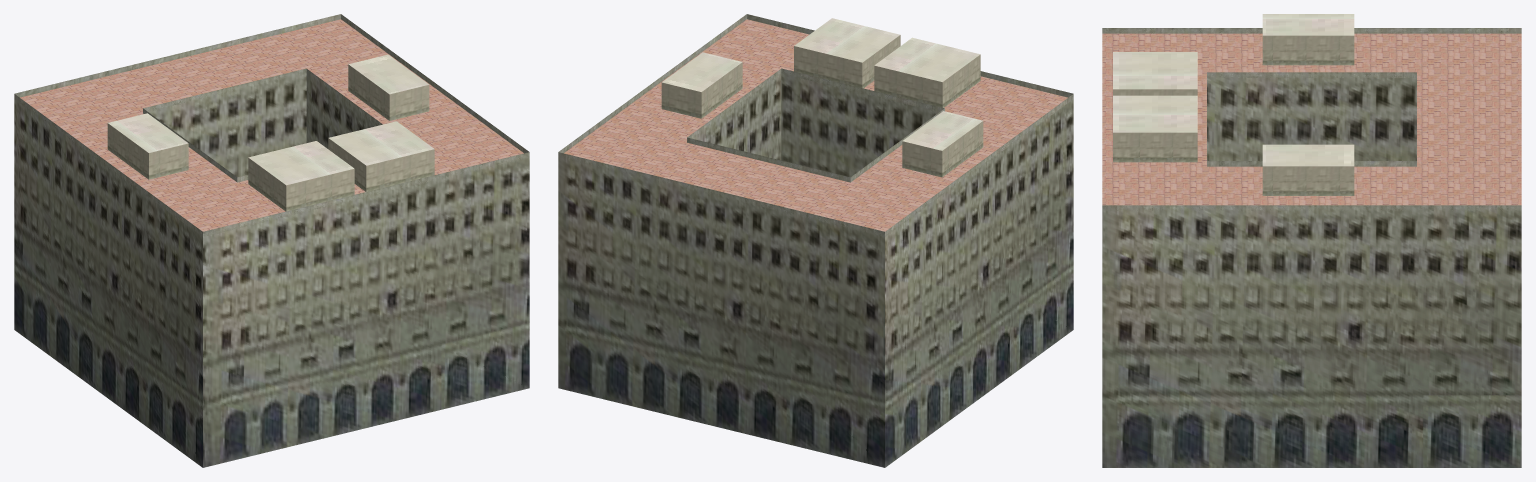
3 renders of one model, left to right at view 1: azimuth 30°, elevation 25°; view 2: azimuth 150°, elevation 25°; view 3: azimuth 270°, elevation 25°, orthographic. The views are drawn at different scales.
Parts seen in each view (by area): view 1: Object_5, Object_3, Object_2, Object_4, Object_12, Object_8, Object_7, Object_11, Object_10, Object_13, Object_9, Object_6 (+1 smaller); view 2: Object_5, Object_3, Object_2, Object_12, Object_4, Object_8, Object_7, Object_11, Object_10, Object_13, Object_1, Object_9 (+1 smaller); view 3: Object_5, Object_3, Object_2, Object_8, Object_7, Object_10, Object_13, Object_4, Object_11, Object_6, Object_9, Object_1 (+1 smaller).
Part boxes in pixels (x1=…): Object_5: x1=14, y1=14, x2=529, y2=467; Object_3: x1=20, y1=19, x2=523, y2=231; Object_2: x1=143, y1=68, x2=382, y2=182; Object_4: x1=14, y1=14, x2=529, y2=236; Object_12: x1=248, y1=158, x2=354, y2=211; Object_8: x1=329, y1=121, x2=434, y2=165; Object_7: x1=248, y1=141, x2=353, y2=185; Object_11: x1=328, y1=138, x2=434, y2=191; Object_10: x1=107, y1=123, x2=188, y2=179; Object_13: x1=348, y1=64, x2=429, y2=120; Object_9: x1=108, y1=113, x2=188, y2=152; Object_6: x1=348, y1=54, x2=428, y2=94; Object_5: x1=558, y1=14, x2=1073, y2=467; Object_3: x1=564, y1=19, x2=1067, y2=231; Object_2: x1=687, y1=68, x2=944, y2=182; Object_12: x1=874, y1=54, x2=980, y2=107; Object_4: x1=559, y1=14, x2=1073, y2=236; Object_8: x1=794, y1=18, x2=900, y2=62; Object_7: x1=874, y1=37, x2=979, y2=81; Object_11: x1=794, y1=35, x2=900, y2=88; Object_10: x1=902, y1=121, x2=983, y2=177; Object_13: x1=661, y1=62, x2=742, y2=118; Object_1: x1=687, y1=68, x2=944, y2=182; Object_9: x1=902, y1=111, x2=982, y2=150; Object_5: x1=1102, y1=28, x2=1521, y2=467; Object_3: x1=1102, y1=33, x2=1521, y2=205; Object_2: x1=1207, y1=72, x2=1416, y2=166; Object_8: x1=1113, y1=95, x2=1197, y2=132; Object_7: x1=1113, y1=52, x2=1197, y2=89; Object_10: x1=1262, y1=35, x2=1354, y2=65; Object_13: x1=1262, y1=166, x2=1354, y2=195; Object_4: x1=1102, y1=28, x2=1521, y2=210; Object_11: x1=1113, y1=132, x2=1197, y2=162; Object_6: x1=1262, y1=144, x2=1354, y2=166; Object_9: x1=1262, y1=14, x2=1354, y2=35; Object_1: x1=1207, y1=72, x2=1416, y2=166.
Size of the model in its own units: 1283 by 1283 by 966.
13 materials, 13 textured.
